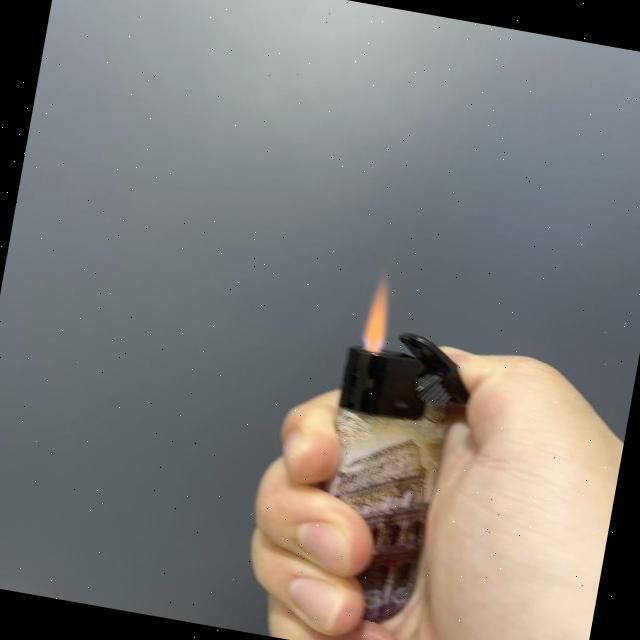fire: (358, 270, 399, 352)
